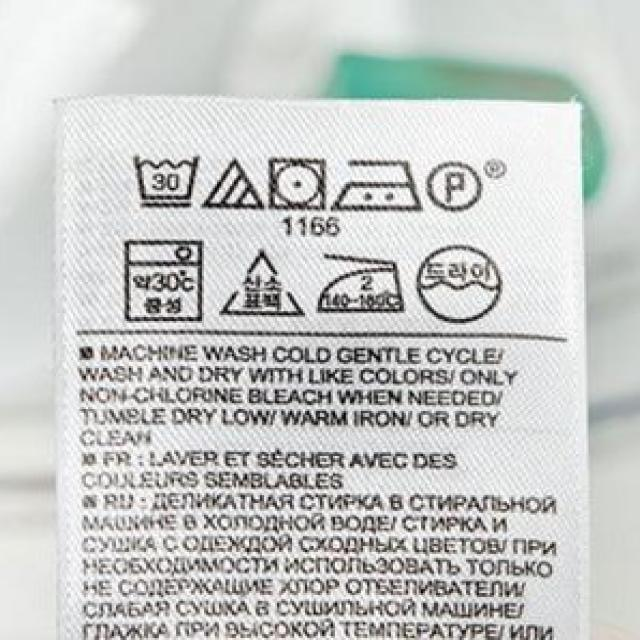30C: (115, 235, 208, 325), (130, 146, 203, 215)
dry_clean: (413, 245, 510, 323)
dry_clean_any_solvent_except_trichloroethylene: (427, 160, 481, 215)
iron_medium: (313, 250, 410, 317), (329, 154, 425, 218)
non_chlorine_bleach: (219, 252, 306, 323), (204, 160, 268, 215)
tumble_dry_low: (265, 156, 332, 210)
